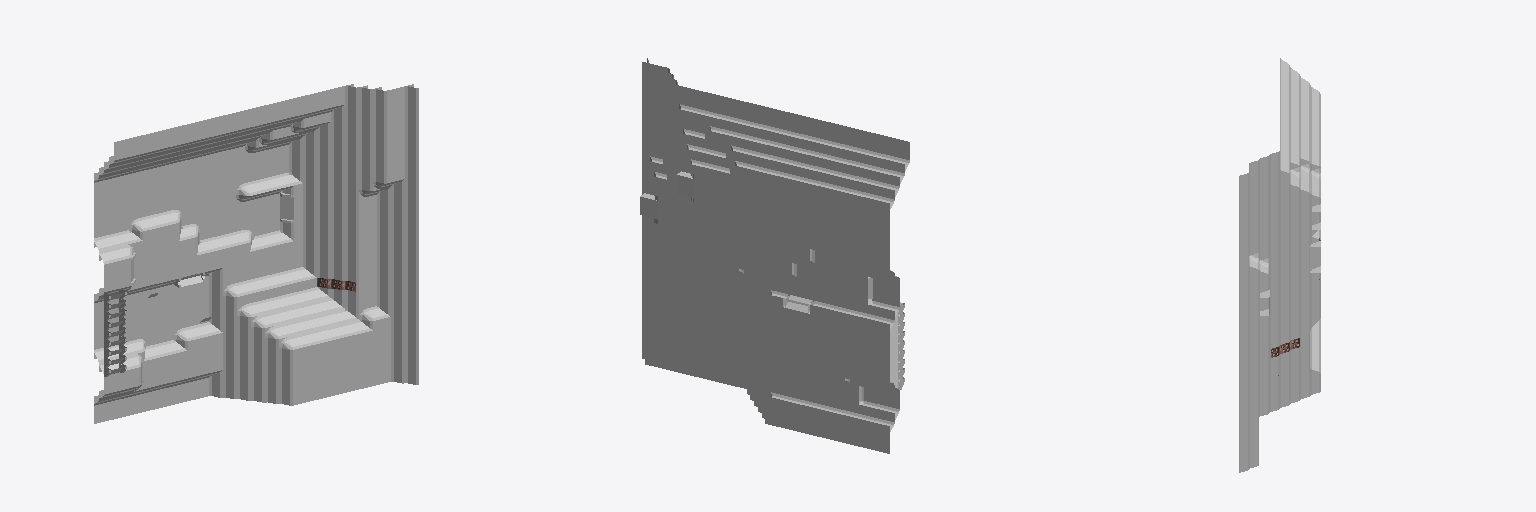
3 renders of one model, left to right at view 1: azimuth 30°, elevation 25°; view 2: azimuth 150°, elevation 25°; view 3: azimuth 270°, elevation 25°, orthographic.
Visible parts, largest first — view 1: map; view 2: map; view 3: map.
Boxes of the visible parts, <box> form: map: <box>94,84,418,423</box>; map: <box>640,58,909,453</box>; map: <box>1239,58,1320,472</box>.
Bounding box in the file's own units: 32 × 32 × 8.06.
Materials: 8 (1 with a texture image).